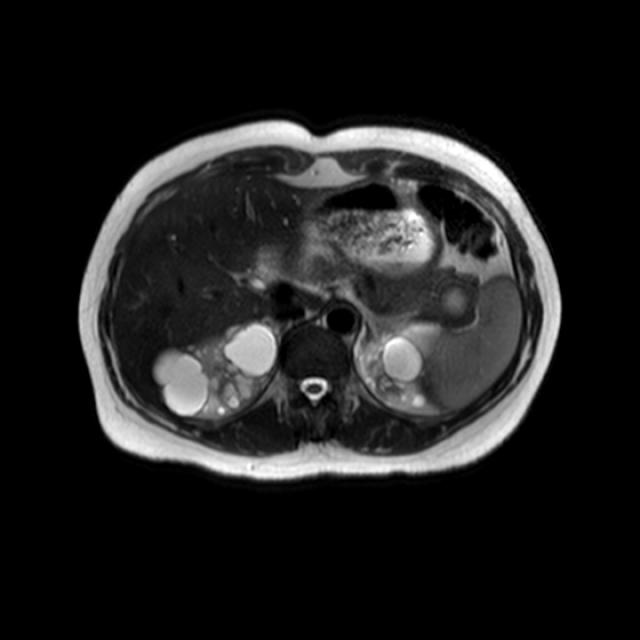sag: (155, 316, 281, 420)
sol: (354, 321, 442, 418)
